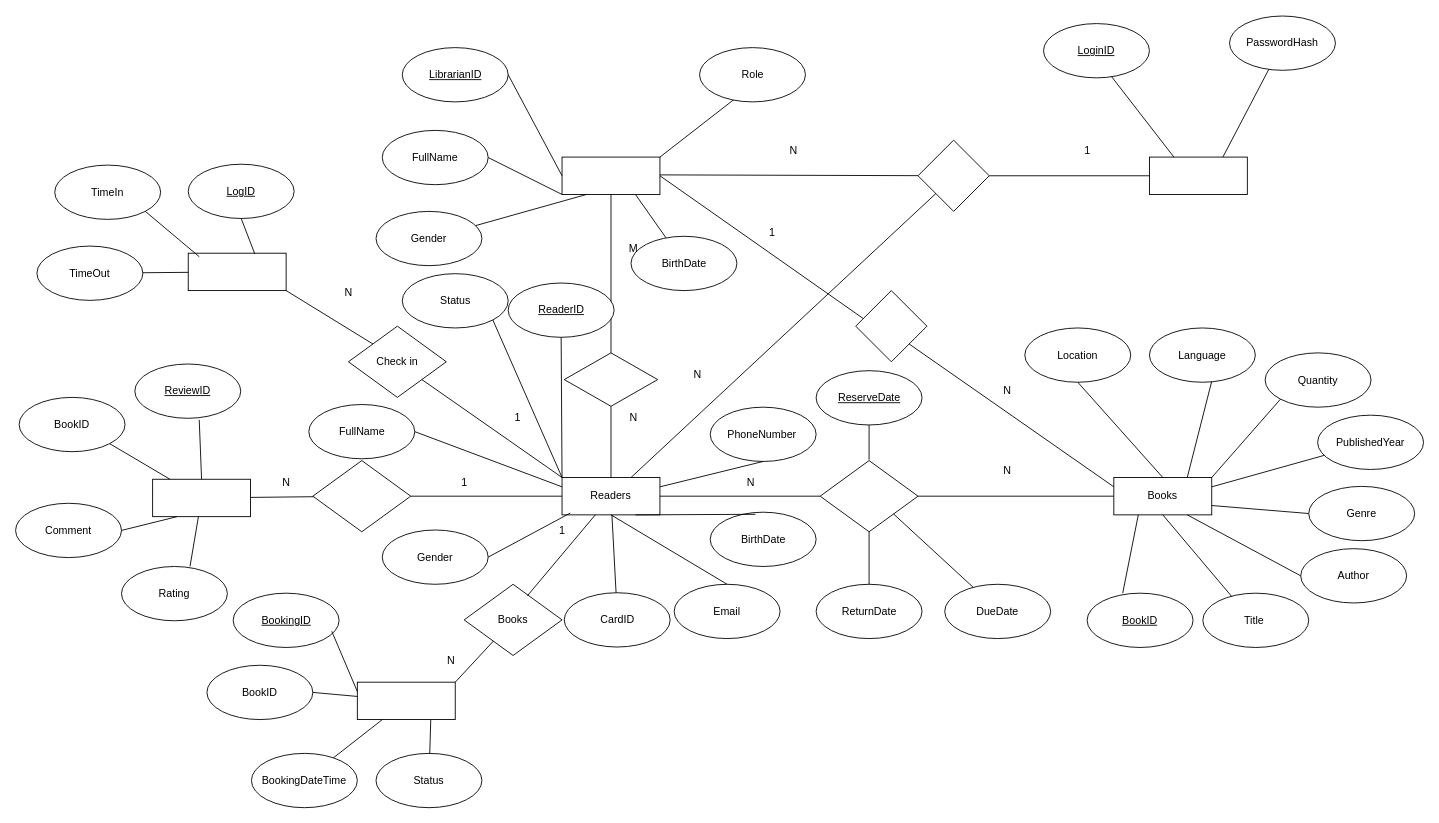
Image size: 1439x823. Some labels were removed from this diagram. The shapes that lost their labels are listed below. From the top down, each one's box as (x1, y1, x2, y2) in pixels, then its label:
(561, 156, 660, 194): Librarians
(917, 139, 989, 211): Login
(1149, 156, 1247, 194): Authentication
(187, 252, 286, 291): LibraryLog
(855, 290, 927, 362): maintain
(563, 352, 658, 406): Keeps track of
(152, 478, 251, 517): BookReviews
(312, 460, 411, 532): review
(819, 460, 918, 532): reserve/return date
(356, 681, 455, 720): Booking
